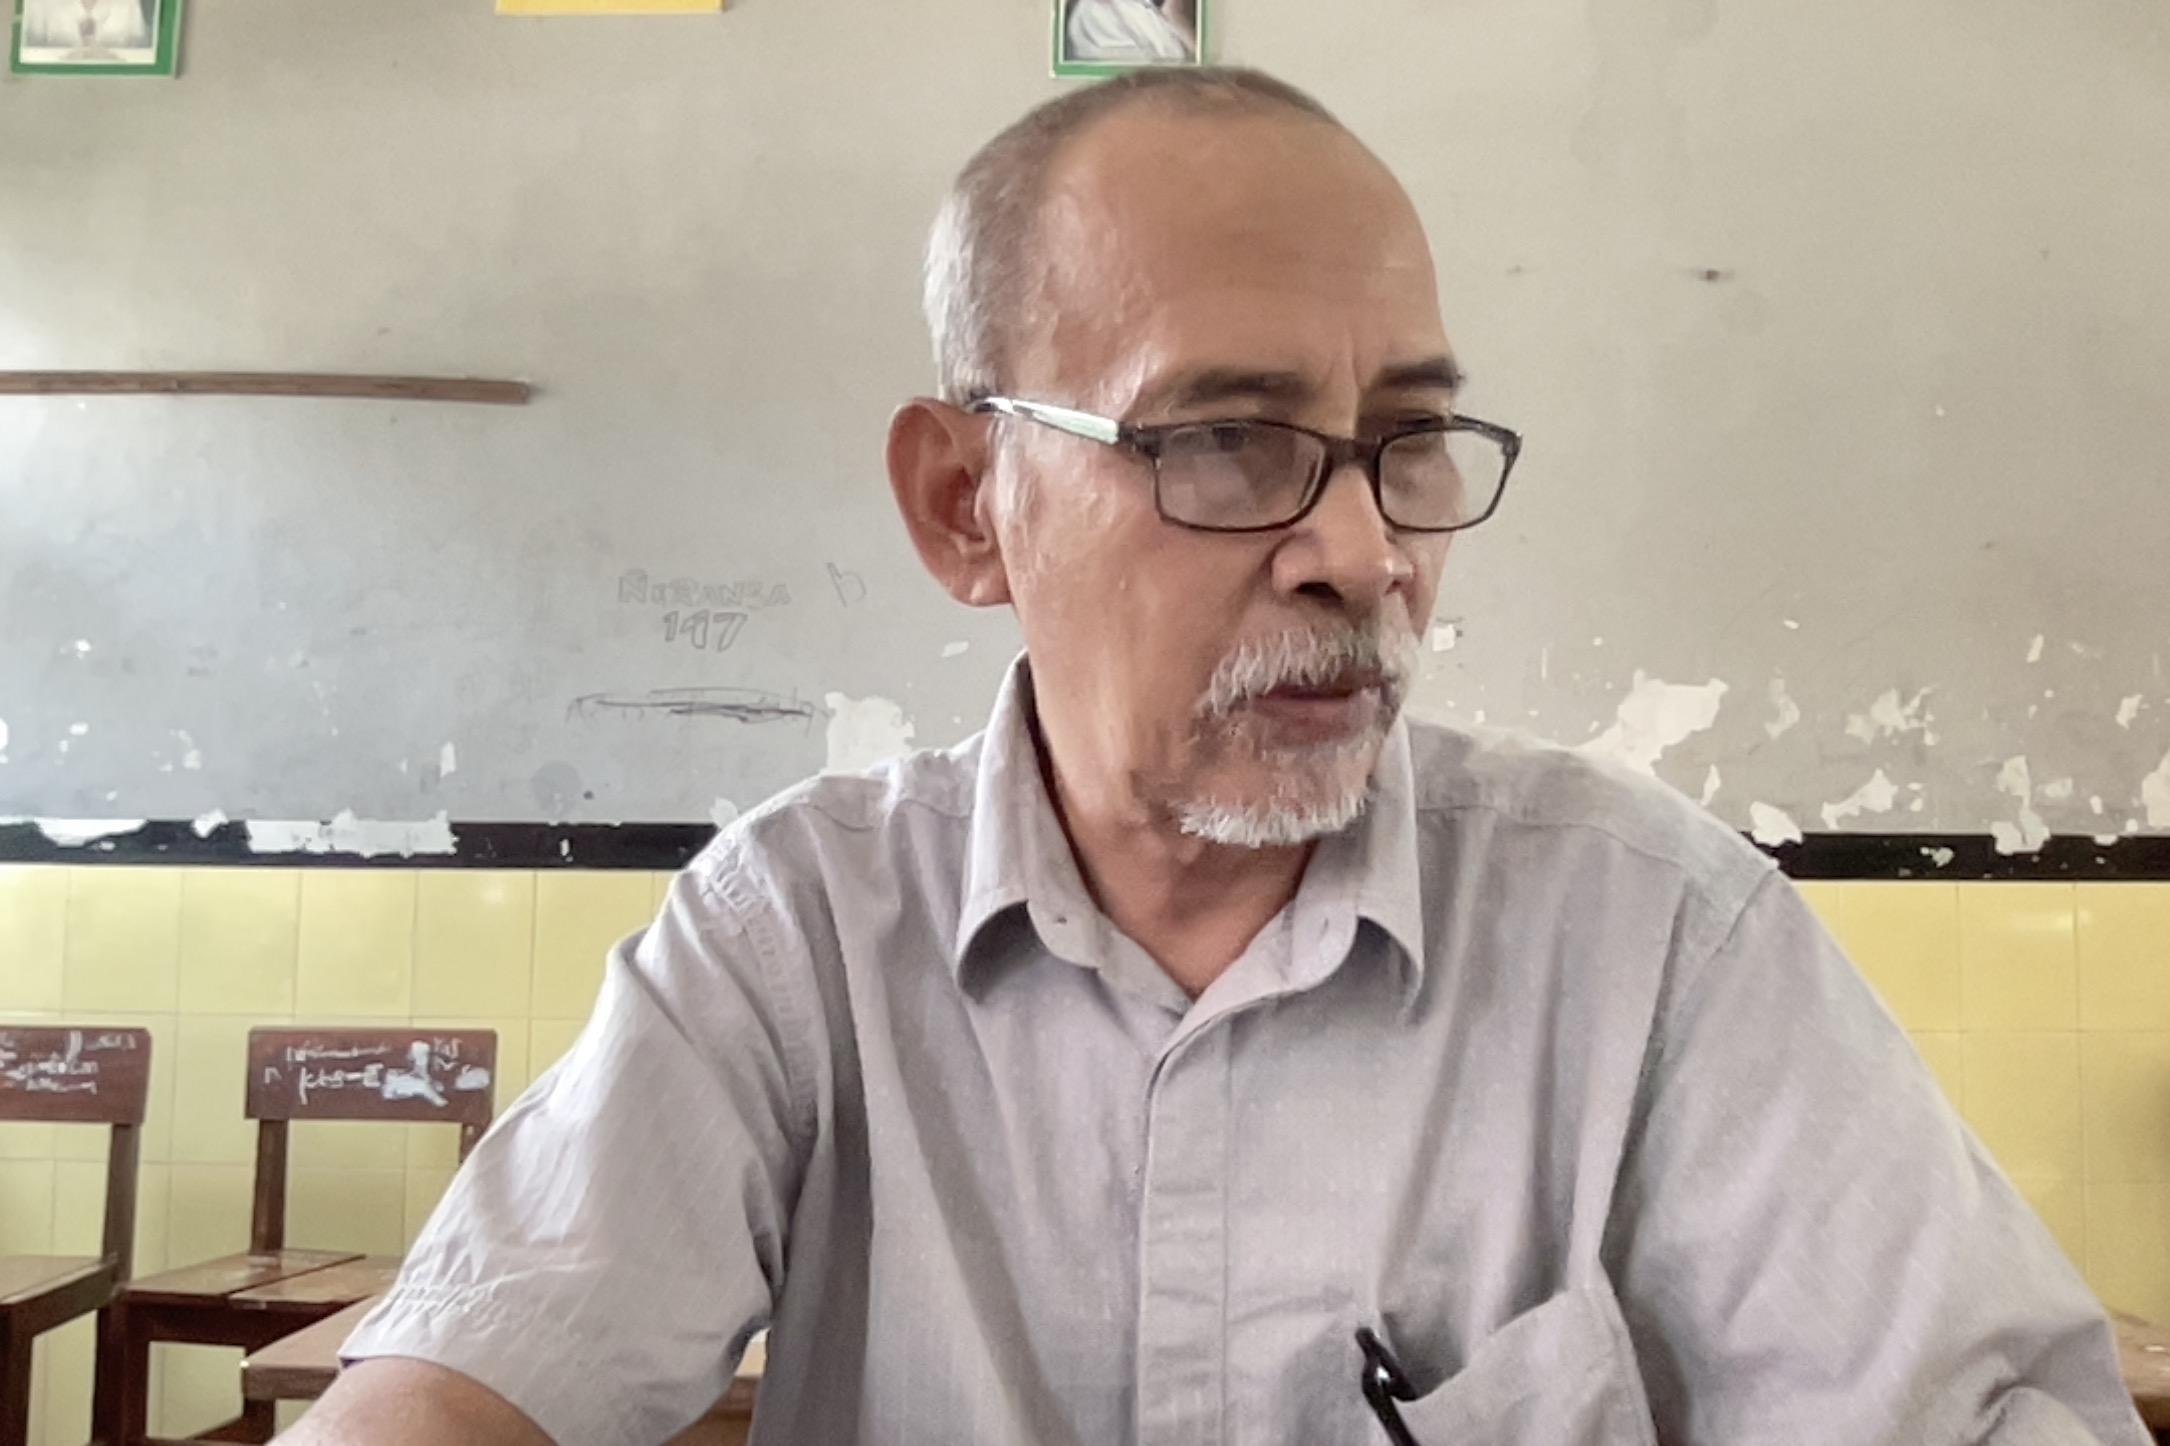cheating: (810, 15, 1607, 1196)
